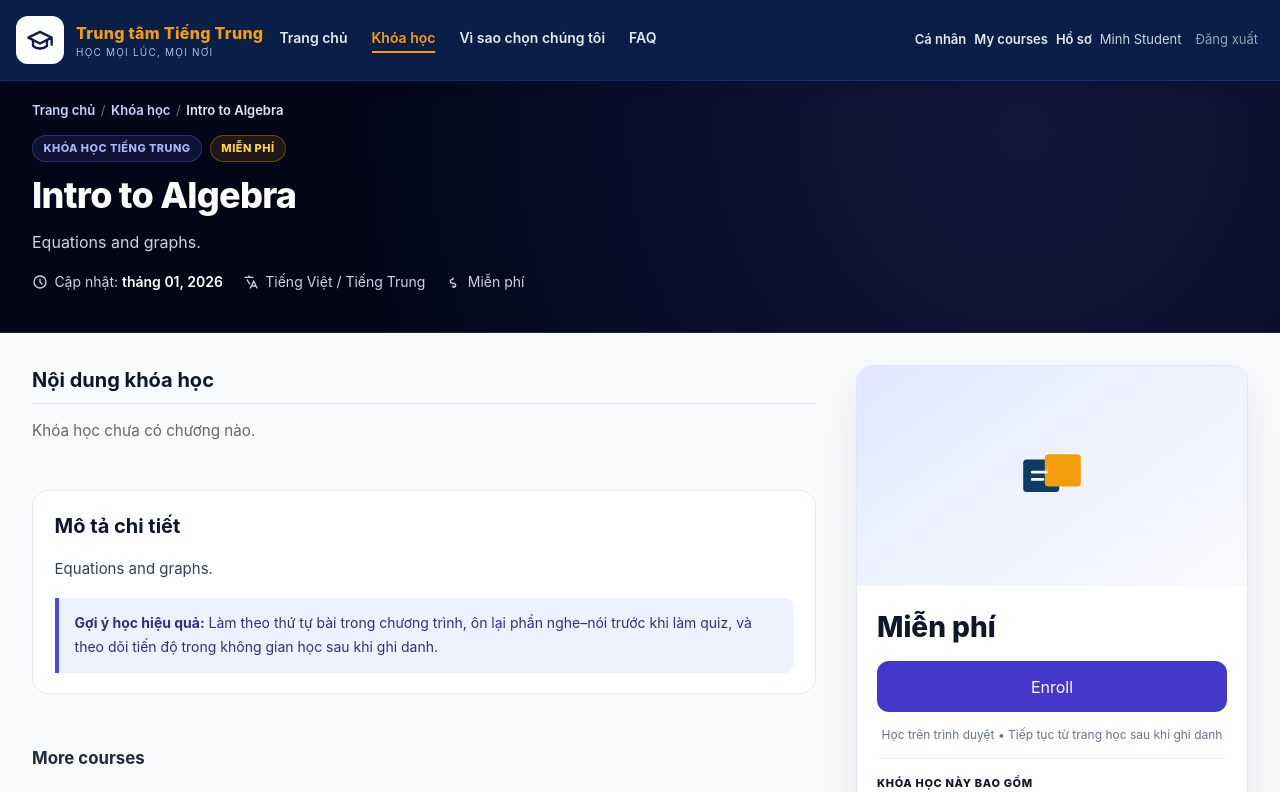
course enrollment on the detail page › does not treat an unexplained 409 as a successful enrollment
This screenshot has width=1280, height=792.
Click the button "Enroll": (1052,687) [877,661,1227,712]
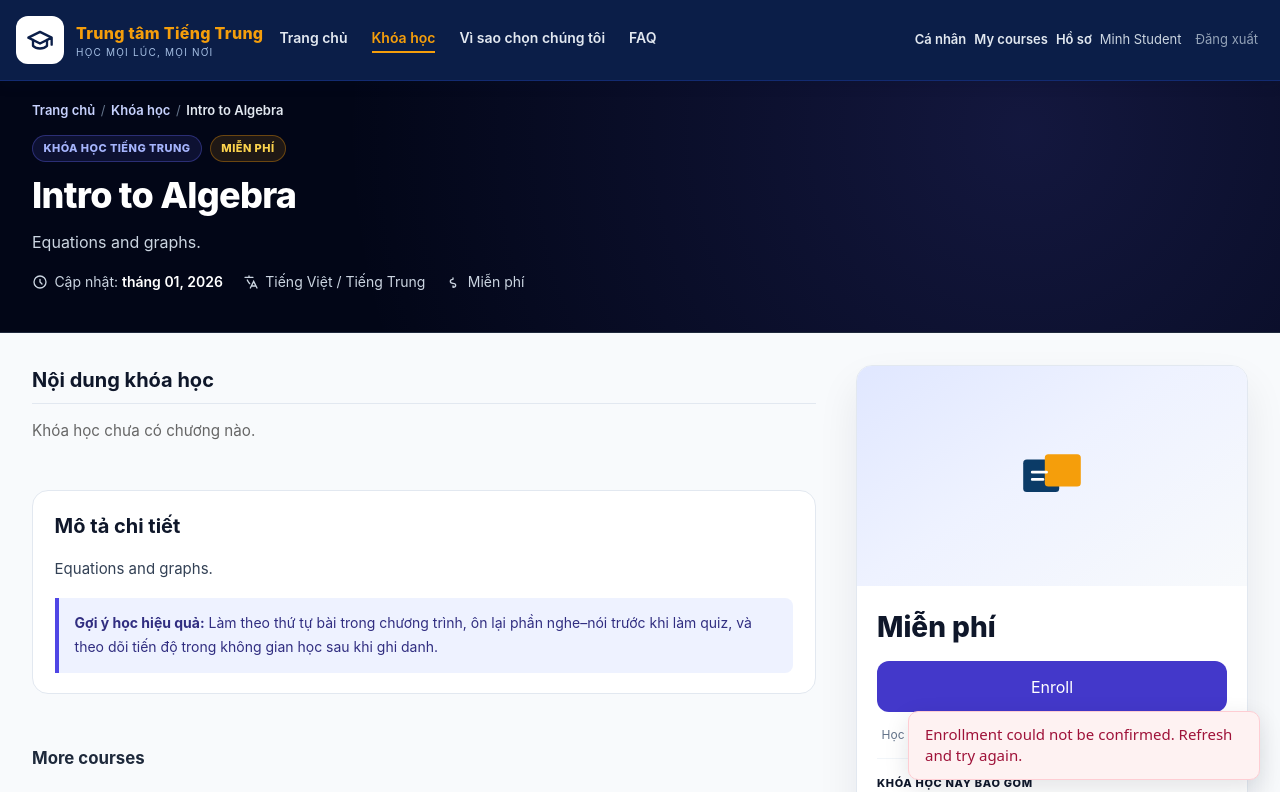
Now the message shows "could not be confirmed", box [925,724,1232,765]
